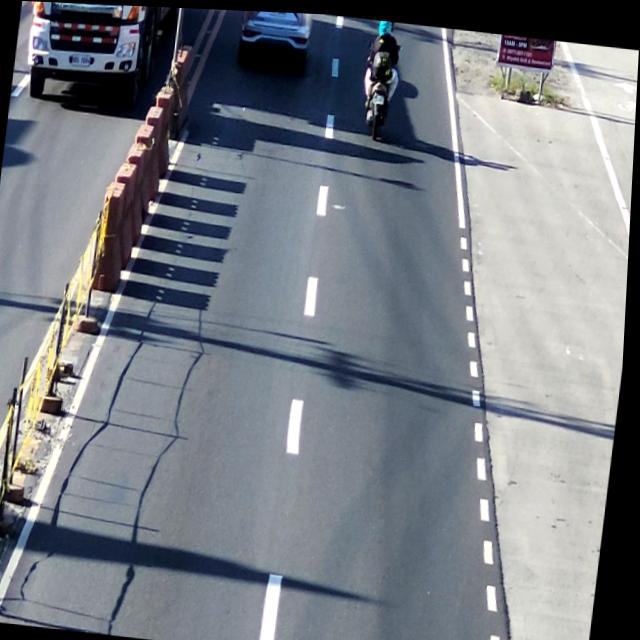Car: (231, 8, 318, 67)
Motorcycle: (360, 16, 402, 139)
